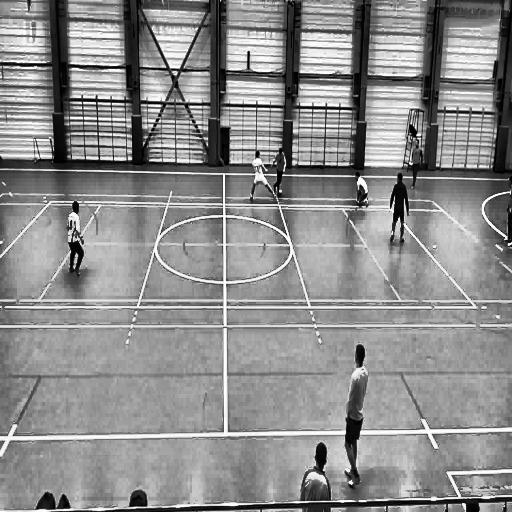ball: (277, 186, 284, 198)
player: (340, 342, 370, 492), (298, 441, 334, 512), (388, 169, 411, 248), (66, 201, 87, 282), (248, 148, 277, 205), (271, 142, 291, 205), (352, 166, 369, 212), (409, 140, 423, 190), (504, 167, 512, 249)
